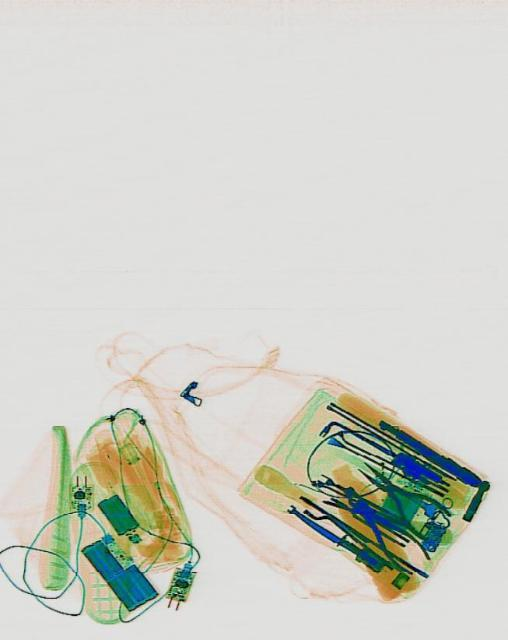Pliers: (348, 445, 451, 547), (339, 485, 432, 583)
